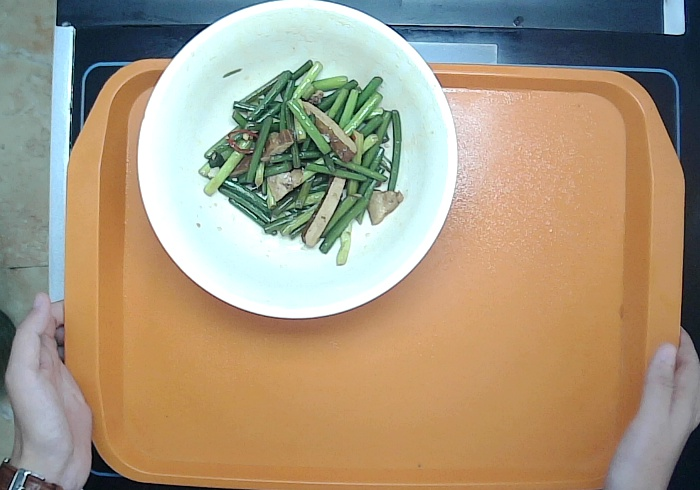ZNLD-Da_Tang_Wan: (134, 1, 460, 322)
